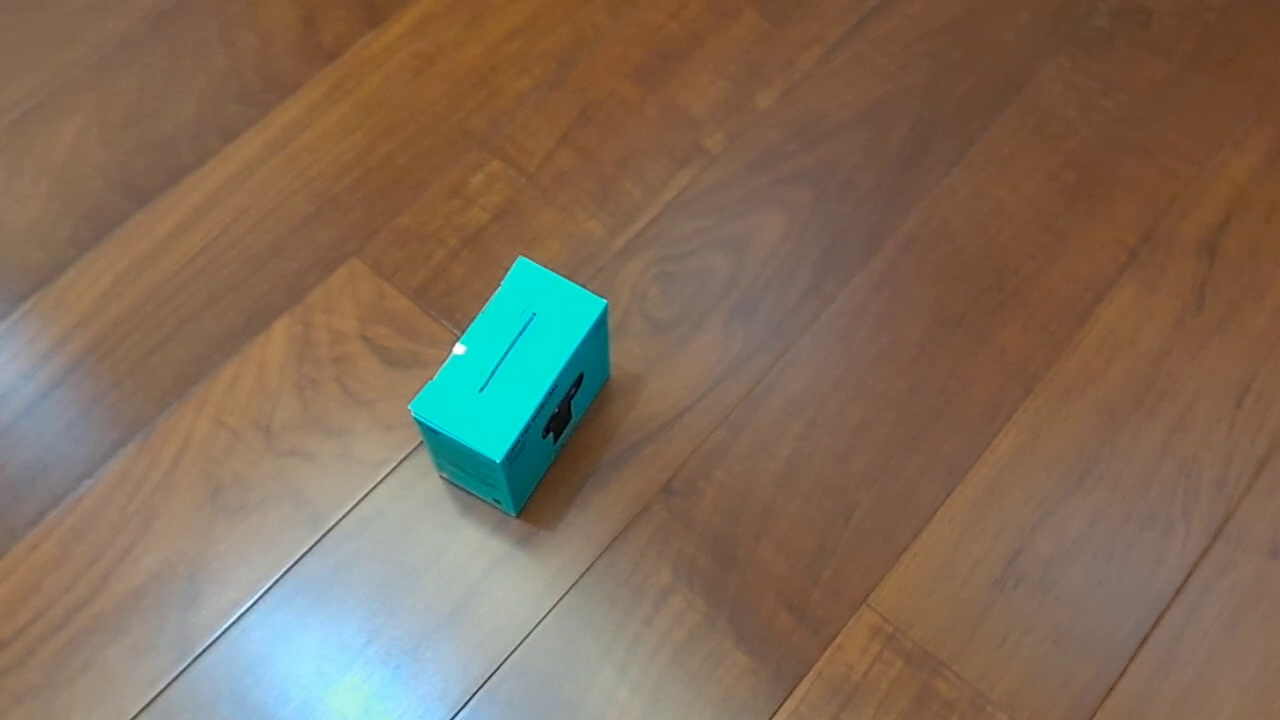webcam: (407, 254, 612, 519)
